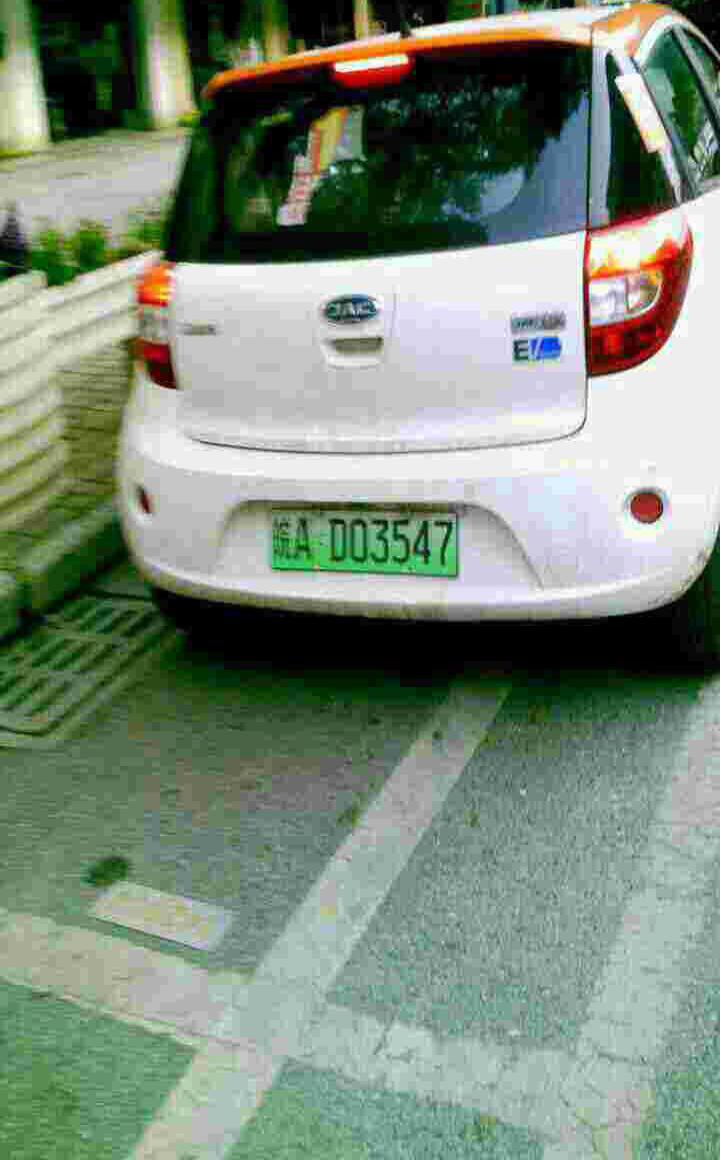car_green: (272, 498, 458, 578)
